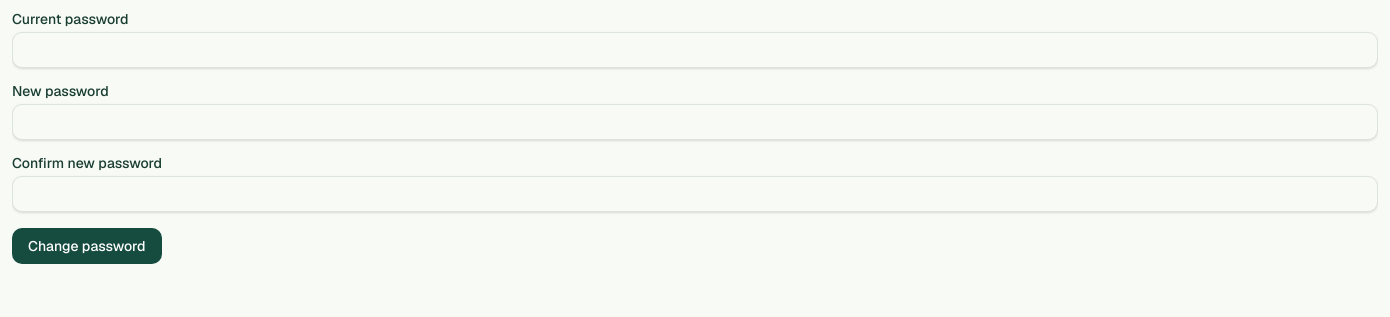
Test case: ChangePasswordForm › shows the server error message
Type "wrongpassword" into the password field labelled "Current password" at [695, 50], box [12,32,1378,68]
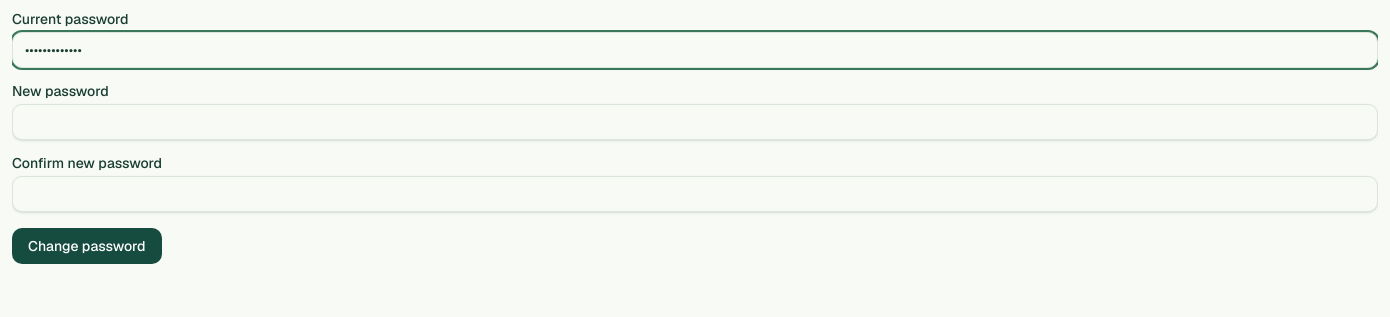
Type "newpassword1" into the password field labelled "New password" at [695, 122], box [12,104,1378,140]
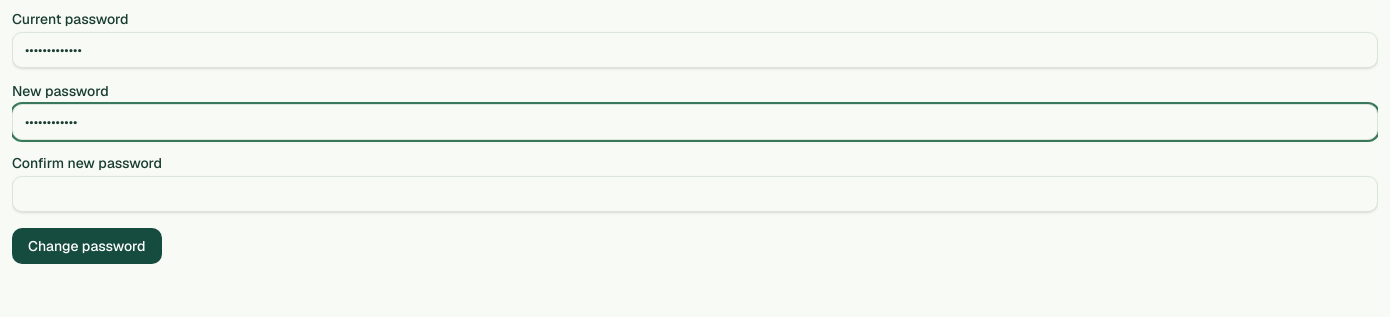
Type "newpassword1" into the password field labelled "Confirm new password" at [695, 194], box [12,176,1378,212]
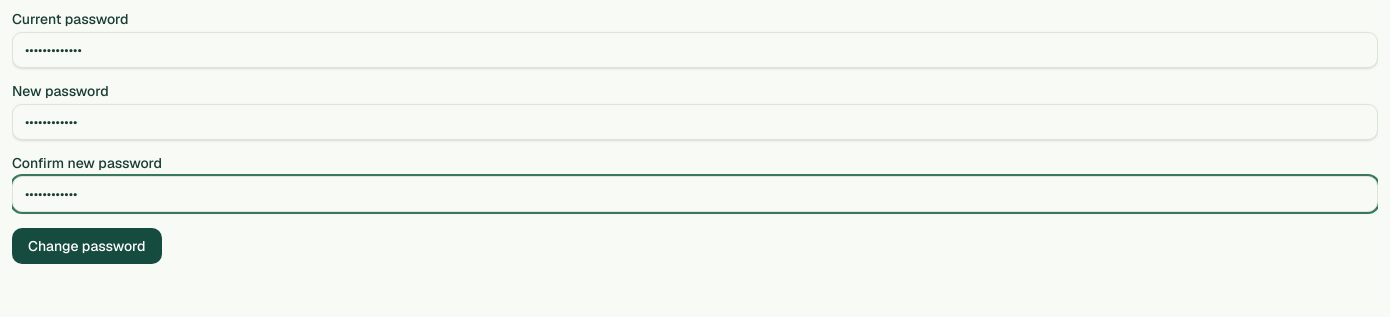
Click the button "Change password" at [87, 246], box [12,228,162,264]
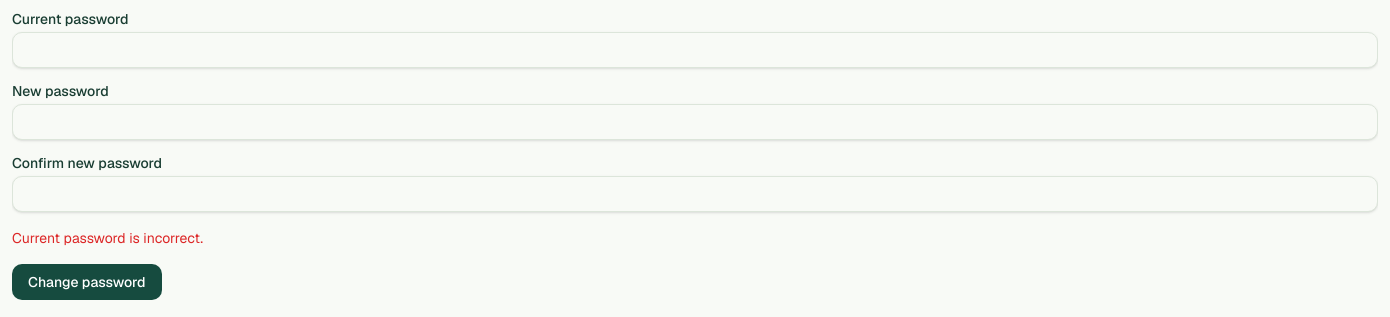
expect the text "Current password is incorrect." is shown: met, box [12,229,203,247]
